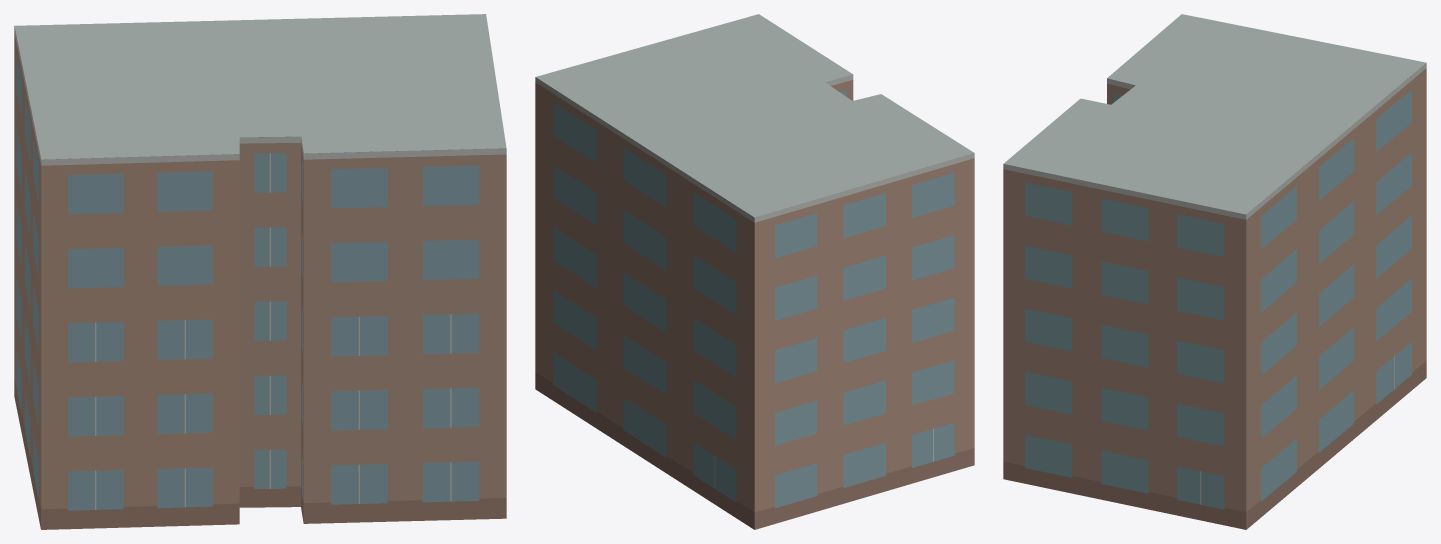
Rendered from survey-upis-32941106.glb.
3 renders of one model, left to right at view 1: azimuth 30°, elevation 25°; view 2: azimuth 150°, elevation 25°; view 3: azimuth 270°, elevation 25°, orthographic. The views are drawn at different scales.
Visible parts, largest first — view 1: survey-upis-32941106.tmp; view 2: survey-upis-32941106.tmp; view 3: survey-upis-32941106.tmp.
Boxes of the visible parts, left/top/right/bottom form: survey-upis-32941106.tmp: left=14, top=14, right=506, bottom=529; survey-upis-32941106.tmp: left=535, top=14, right=974, bottom=529; survey-upis-32941106.tmp: left=1003, top=14, right=1426, bottom=529.
Bounding box in the file's own units: 19.79 × 14.5 × 17.65.
